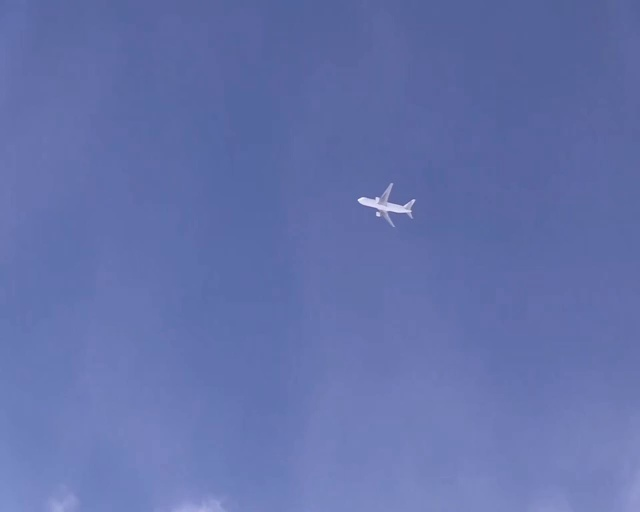AIRPLANE: (357, 181, 416, 227)
